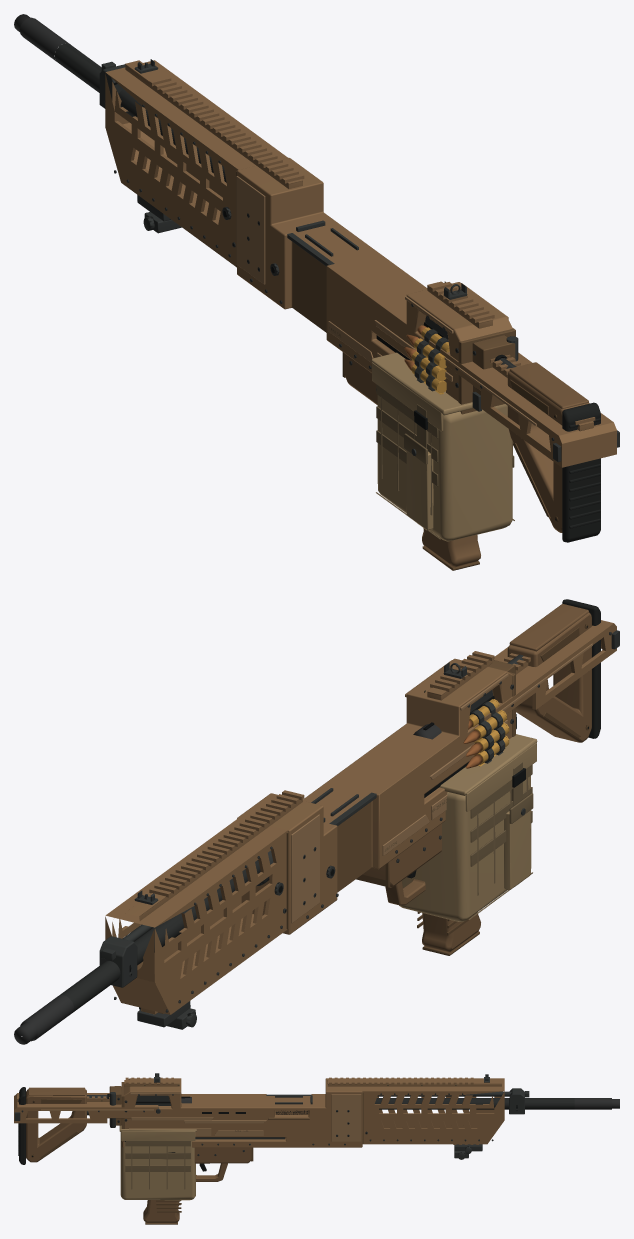
The model's file is weapon-44-BT0agbu2.glb.
3 renders of one model, top to bottom at view 1: azimuth 30°, elevation 25°; view 2: azimuth 150°, elevation 25°; view 3: azimuth 270°, elevation 25°, orthographic. The views are drawn at different scales.
Parts seen in each view (by area): view 1: salient_weapon_body, salient_weapon_magazine, salient_weapon_cover, salient_weapon_belt; view 2: salient_weapon_body, salient_weapon_magazine, salient_weapon_cover, salient_weapon_belt; view 3: salient_weapon_body, salient_weapon_magazine, salient_weapon_cover.
Part boxes in pixels (x1,y1,x2,y2): salient_weapon_body: (14,14,600,570); salient_weapon_magazine: (371,352,514,541); salient_weapon_cover: (429,340,619,467); salient_weapon_belt: (404,325,449,394); salient_weapon_body: (14,599,600,1044); salient_weapon_magazine: (399,734,537,921); salient_weapon_cover: (484,620,619,720); salient_weapon_belt: (463,699,509,768); salient_weapon_body: (18,1077,619,1224); salient_weapon_magazine: (119,1125,196,1200); salient_weapon_cover: (14,1093,160,1123).
Size of the model in its own units: 0.0941 by 0.2868 by 1.07.
